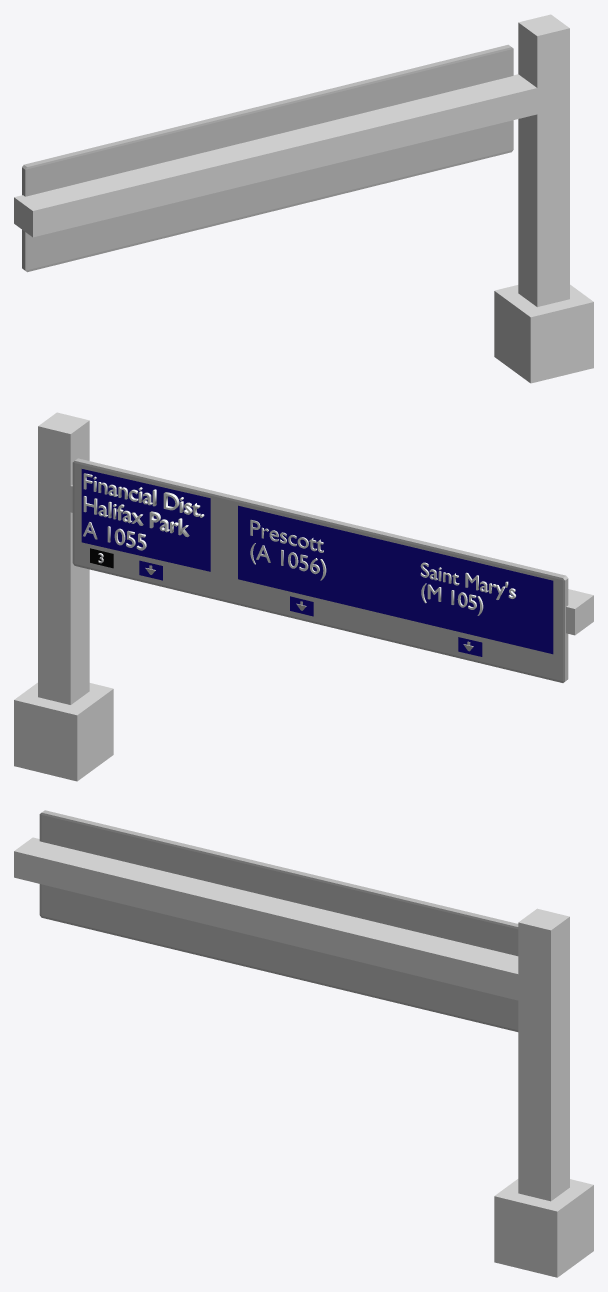
File: M150JCT3ExitSignWestbound.fbx
3 renders of one model, top to bottom at view 1: azimuth 30°, elevation 25°; view 2: azimuth 150°, elevation 25°; view 3: azimuth 330°, elevation 25°, orthographic.
Visible parts, largest first — view 1: Cube, Cube.008; view 2: Plane.005, Cube, Cube.008, Plane.001, Text, Text.003, Text.002, Text.001; view 3: Cube, Cube.008.
Part boxes in pixels (x1,y1,x2,y2): Cube: (14, 14, 593, 383); Cube.008: (22, 44, 513, 272); Plane.005: (238, 505, 553, 654); Cube: (14, 412, 593, 781); Cube.008: (72, 458, 568, 682); Plane.001: (81, 469, 210, 571); Text: (83, 473, 204, 537); Text.003: (420, 562, 515, 615); Text.002: (250, 519, 326, 580); Text.001: (83, 522, 146, 550); Cube: (14, 837, 593, 1277); Cube.008: (39, 810, 518, 1031).
Bounding box in the file's own units: 1746 × 1019 × 200.
